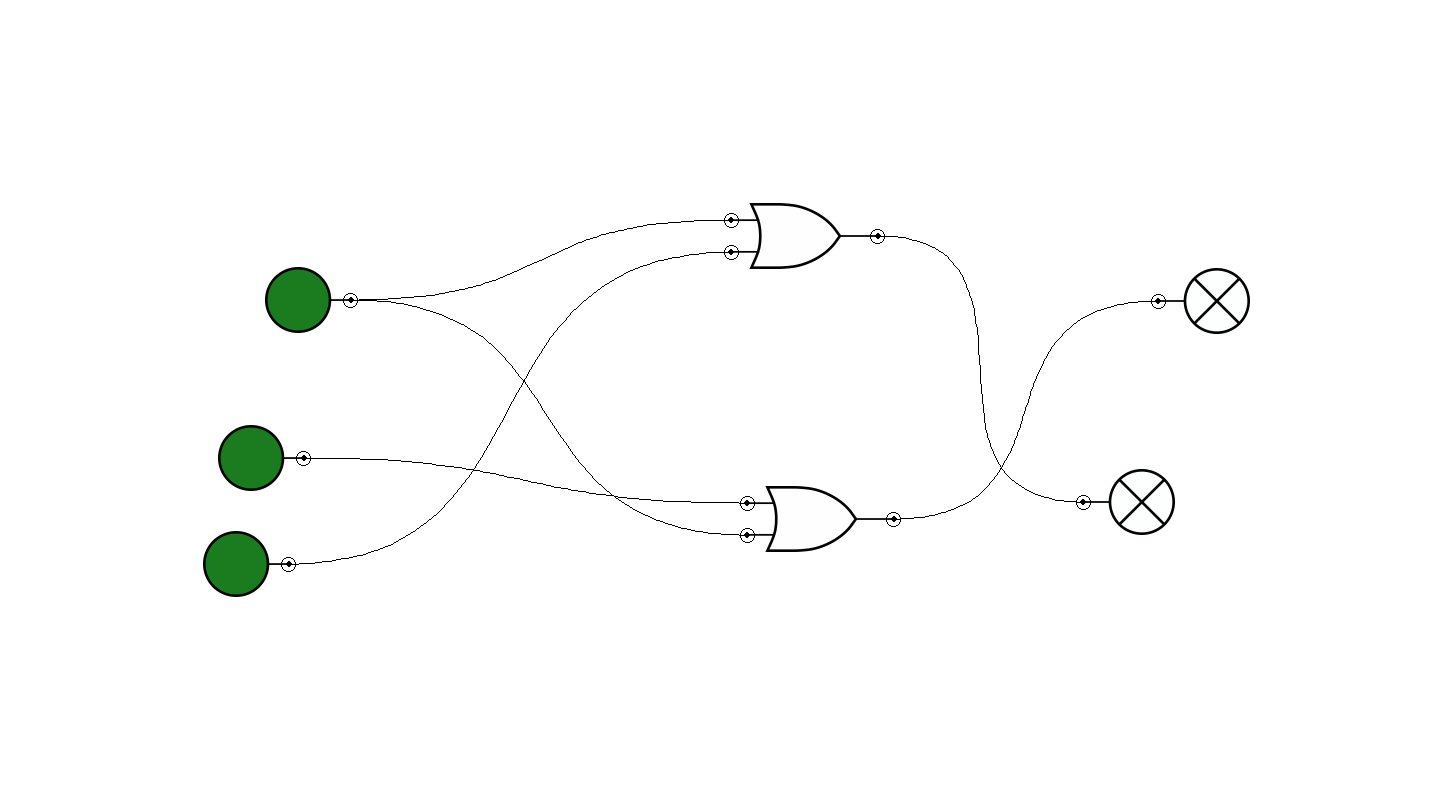bulb: (1076, 469, 1175, 535), (1151, 268, 1250, 334)
or: (724, 203, 885, 269), (740, 486, 901, 552)
switch_True: (265, 267, 358, 333), (218, 425, 311, 491), (203, 531, 296, 597)
